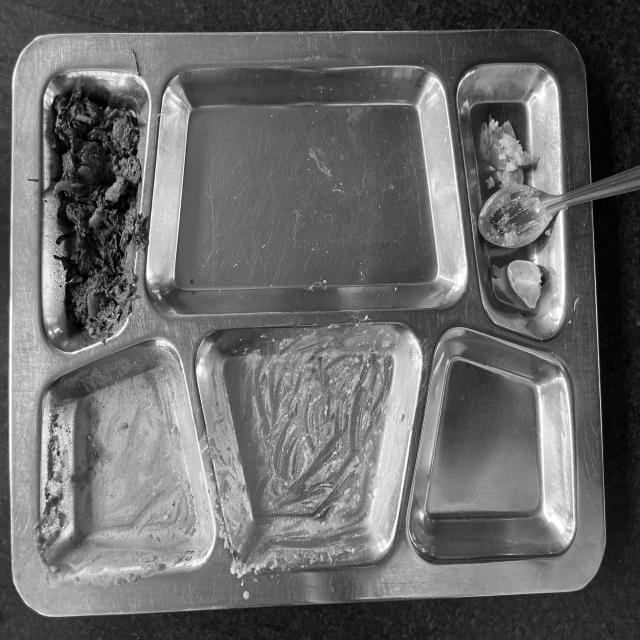0.0- Food Left: (28, 49, 590, 575)
